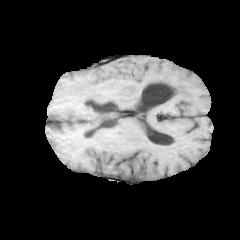glioma: (51, 70, 194, 127)
